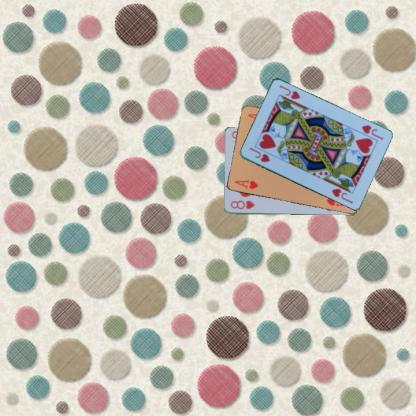8h: (228, 198, 256, 211)
Ah: (232, 177, 260, 191)
Jh: (359, 122, 384, 141), (247, 145, 271, 164)
